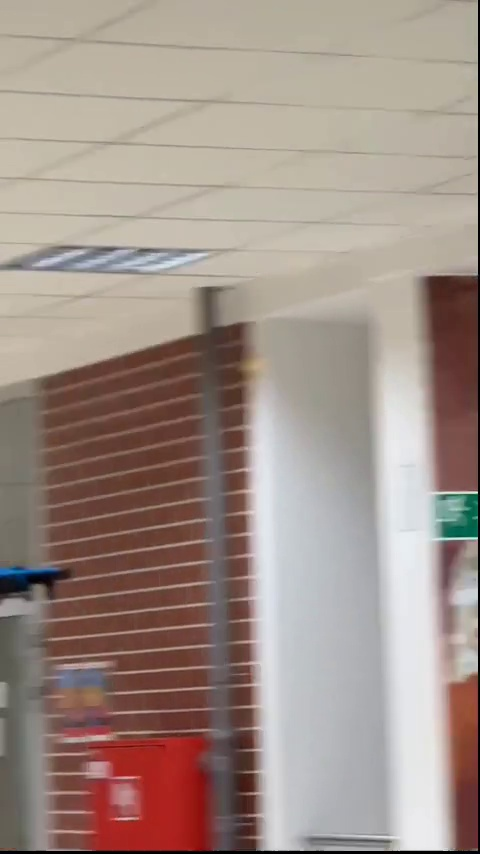drone: (0, 562, 70, 602)
